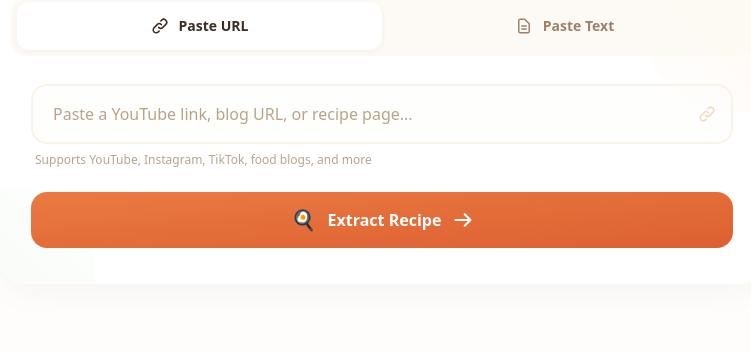
Test case: InputForm › shows URL validation error for empty submit
Click the button "🍳 Extract Recipe": (382, 220) [31,192,733,248]
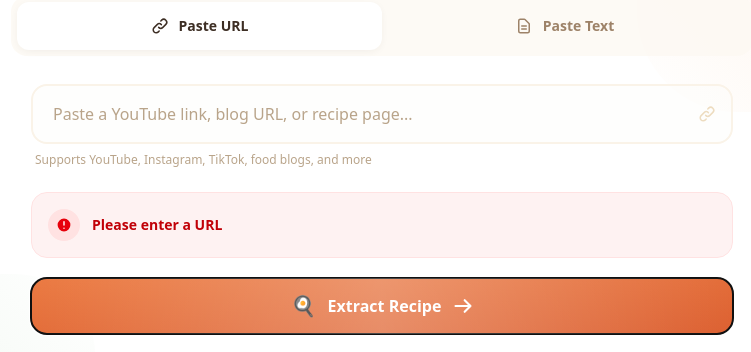
expect the text "Please enter a URL" is shown: met, box [92,215,222,235]
